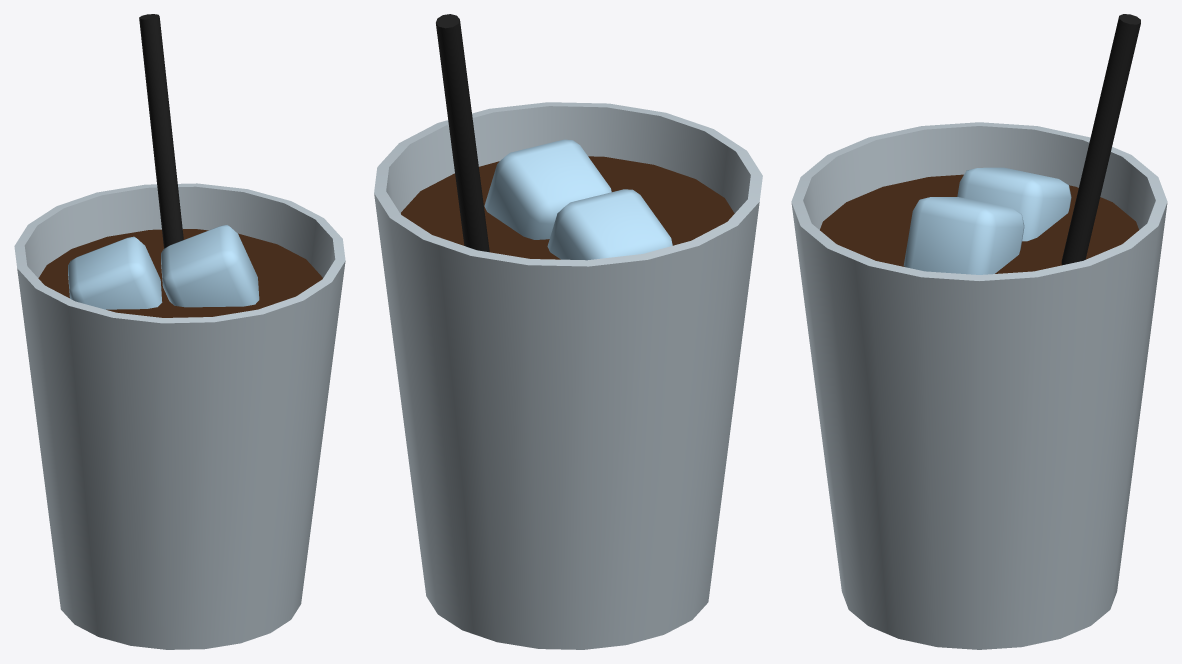
File: Cafe_L3.fbx
3 renders of one model, left to right at view 1: azimuth 30°, elevation 25°; view 2: azimuth 150°, elevation 25°; view 3: azimuth 270°, elevation 25°, orthographic. The views are drawn at different scales.
Visible parts, largest first — view 1: C3_Cup, C3_Ice (×2), C3_Coffee, C3_Straw; view 2: C3_Cup, C3_Ice (×2), C3_Coffee, C3_Straw; view 3: C3_Cup, C3_Ice (×2), C3_Coffee, C3_Straw.
Part boxes in pixels (x1,y1,x2,y2): C3_Cup: [14, 183, 345, 649]; C3_Ice (×2): [68, 225, 259, 309]; C3_Coffee: [38, 229, 322, 317]; C3_Straw: [139, 14, 183, 248]; C3_Cup: [374, 102, 762, 649]; C3_Ice (×2): [484, 139, 672, 260]; C3_Coffee: [401, 156, 734, 259]; C3_Straw: [436, 14, 489, 252]; C3_Cup: [791, 122, 1167, 649]; C3_Ice (×2): [903, 167, 1071, 274]; C3_Coffee: [820, 174, 1138, 273]; C3_Straw: [1061, 14, 1140, 264].
Bounding box in the file's own units: 15.99 × 27.89 × 15.99.
